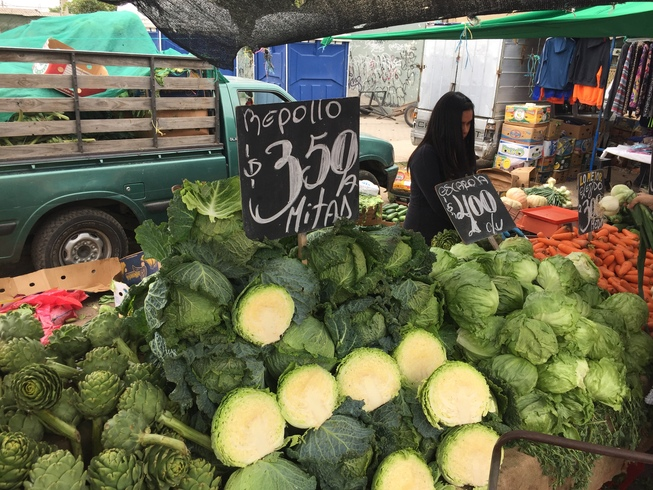precio: (230, 94, 373, 242), (428, 169, 538, 255), (575, 162, 617, 241)
